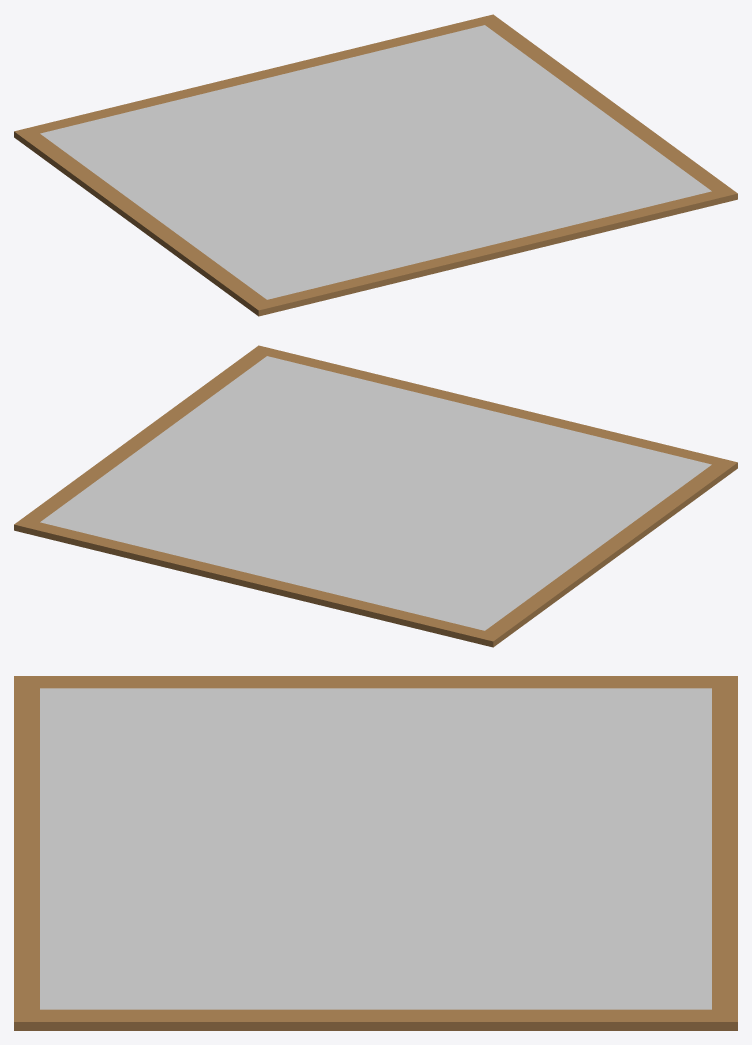
The model's file is CARDENILLO.fbx.
The picture shows the model from 3 angles, top to bottom: view 1: azimuth 30°, elevation 25°; view 2: azimuth 150°, elevation 25°; view 3: azimuth 270°, elevation 25°; orthographic projection. The views are drawn at different scales.
Visible parts, largest first — view 1: Plane; view 2: Plane; view 3: Plane.
Part boxes in pixels (x1,y1,x2,y2): Plane: [14, 14, 737, 316]; Plane: [14, 345, 737, 647]; Plane: [14, 676, 737, 1030].
Size of the model in its own units: 1344 by 16.27 by 1188.
